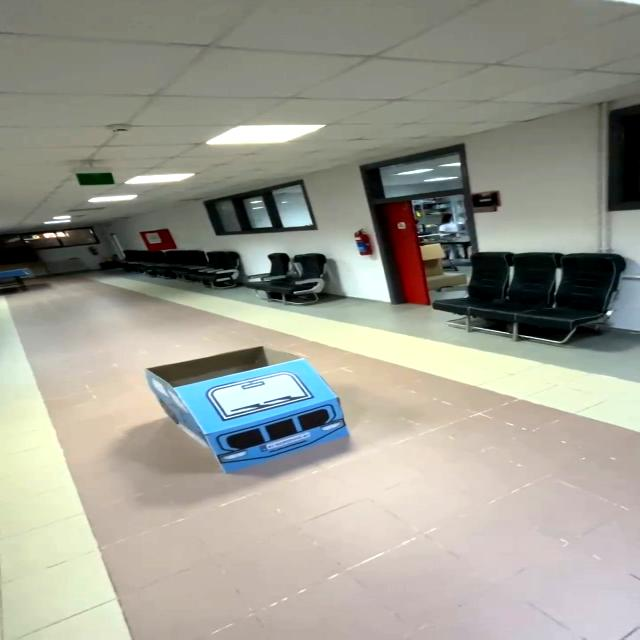blue_car: (116, 334, 386, 490)
